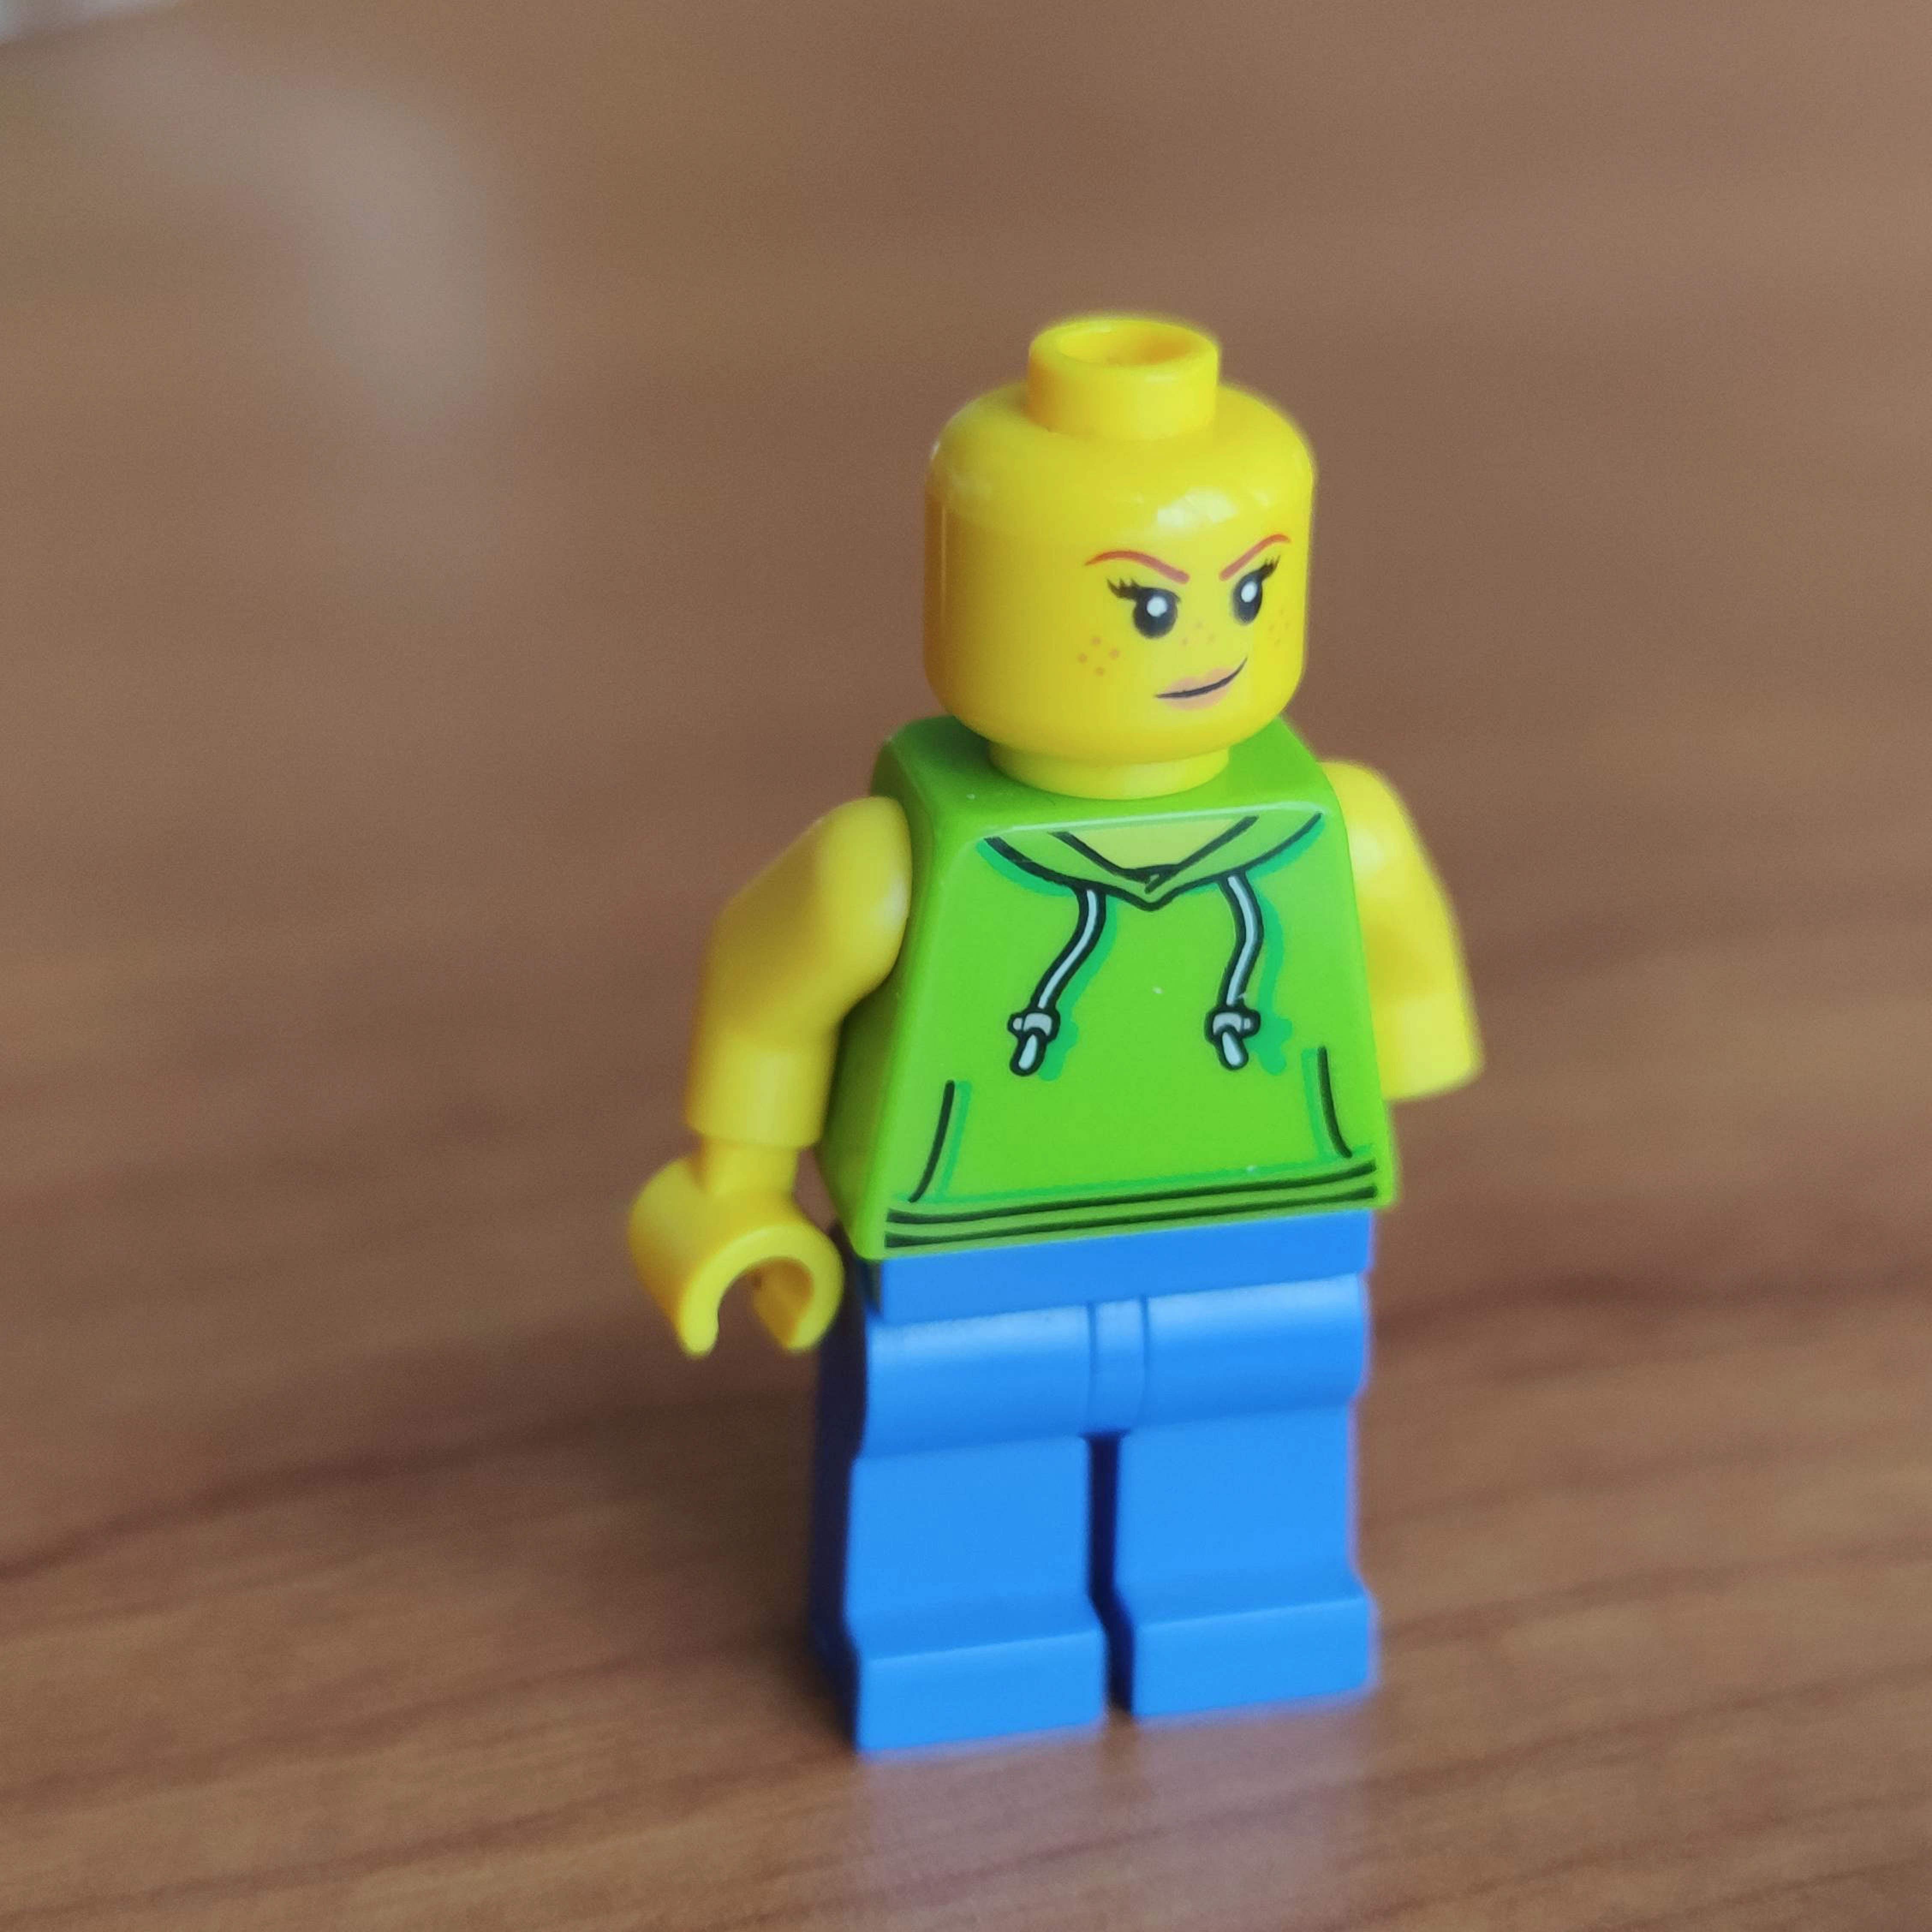lego: (623, 313, 1488, 1755)
